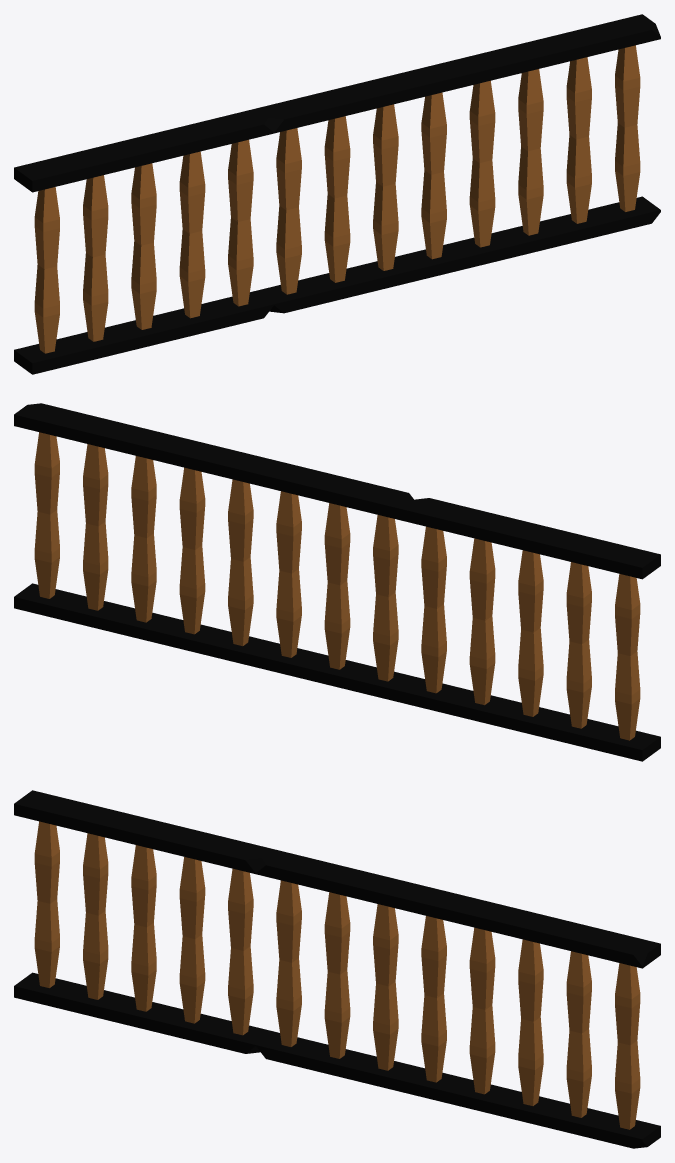
The model's file is GuardRail_01.fbx.
The picture shows the model from 3 angles, top to bottom: view 1: azimuth 30°, elevation 25°; view 2: azimuth 150°, elevation 25°; view 3: azimuth 330°, elevation 25°; orthographic projection.
Visible parts, largest first — view 1: GuardRail_01; view 2: GuardRail_01; view 3: GuardRail_01.
Part boxes in pixels (x1,y1,x2,y2): GuardRail_01: (14, 14, 660, 374); GuardRail_01: (14, 403, 660, 761); GuardRail_01: (14, 790, 660, 1148).
Bounding box in the file's own units: 289 × 85.04 × 14.67.
